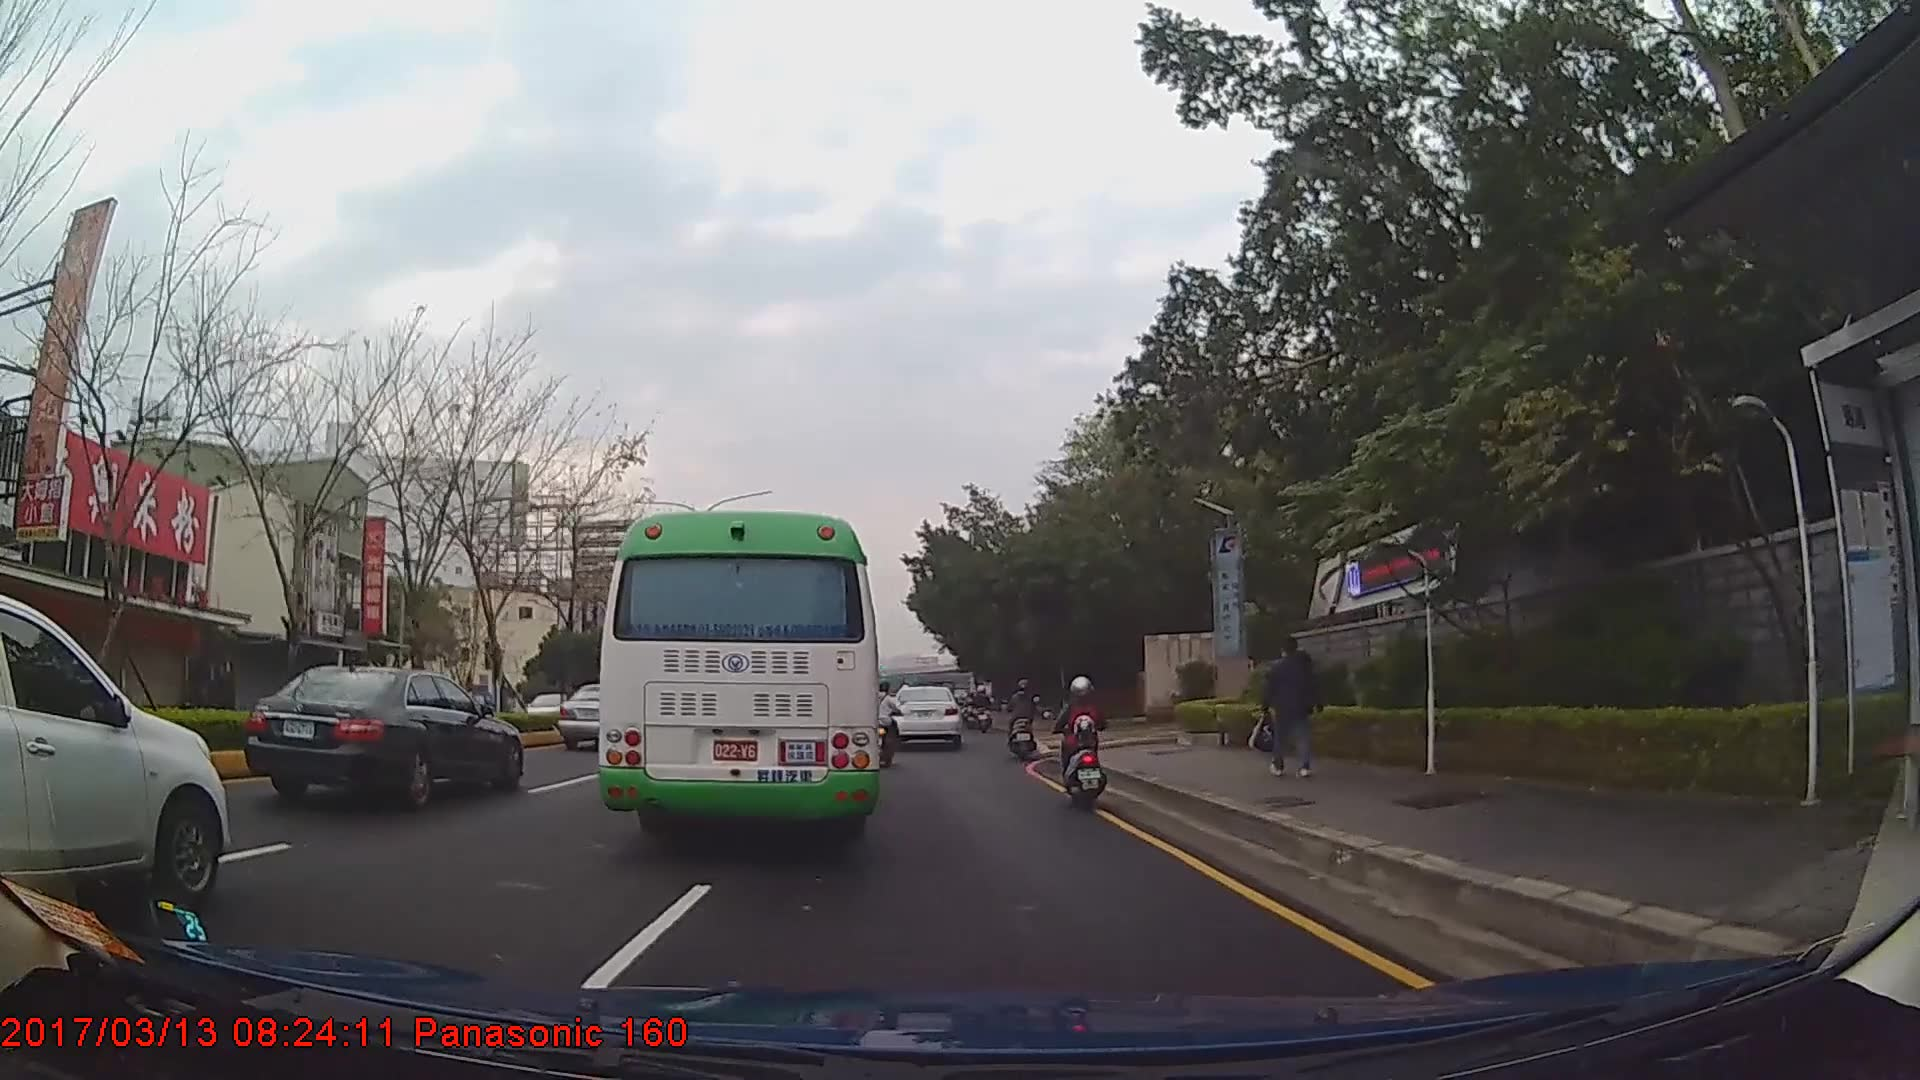pedestrian: (1251, 636, 1328, 780)
rider: (1059, 677, 1109, 805), (864, 681, 903, 770), (1007, 676, 1041, 759), (972, 686, 992, 721)
vehicle: (594, 507, 883, 851), (0, 591, 231, 911), (243, 663, 521, 807), (556, 680, 649, 750), (890, 683, 959, 749)
